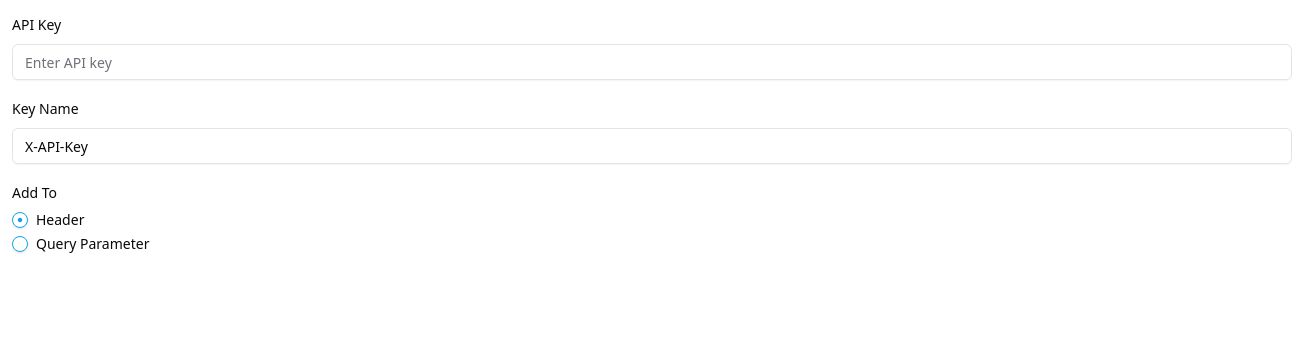
APIKeyAuth › should clear API key when clear button is clicked
In the field with placeholder "Enter API key": (652, 62) [12,44,1292,80], type "test-key"
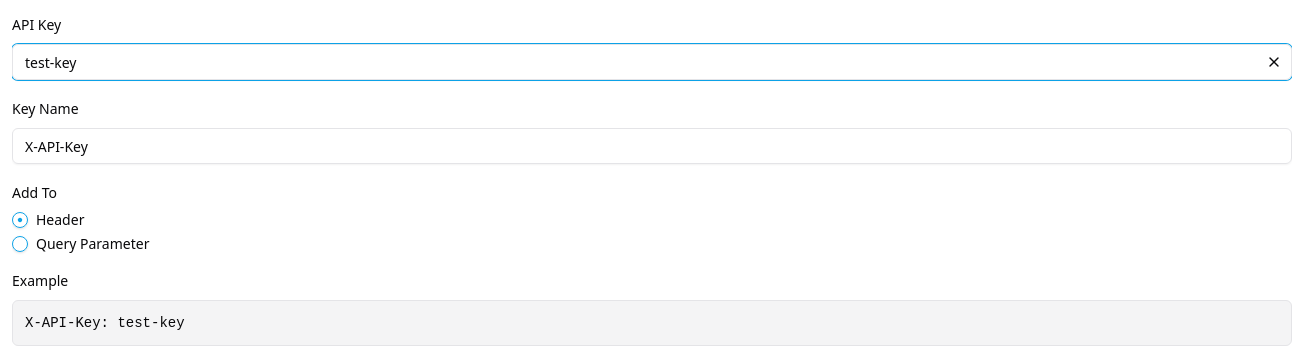
Click the button named "clear": (1274, 62) [1260,48,1288,76]
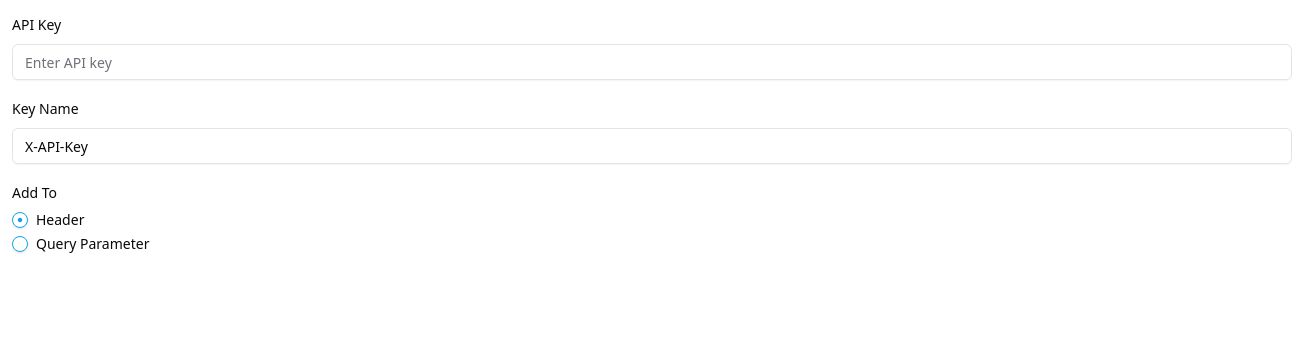
Now the field with placeholder "Enter API key" is empty, box [12,44,1292,80]
